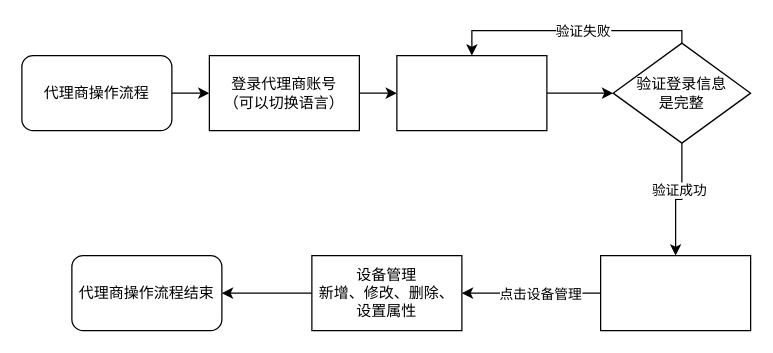
Image size: 773x353. Some labels were removed from this diagram. Each missing label, with the centre of its shape:
代理商拥有 产品管理模块的 设备管理功能: (x=675, y=292)
输入账号密码 及验证码: (x=471, y=92)
